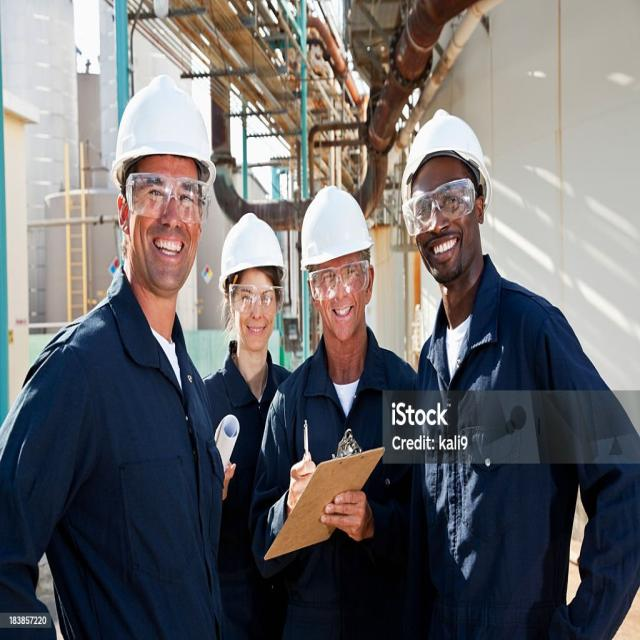goggles: (118, 166, 208, 224), (400, 179, 477, 231), (224, 281, 284, 323), (306, 268, 371, 302)
